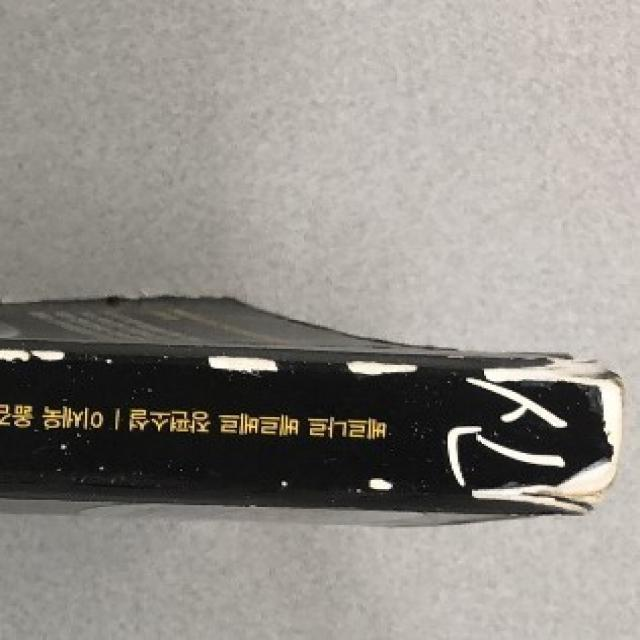Ripped: (457, 335, 626, 452), (460, 454, 628, 522)
Wornout: (177, 342, 284, 380), (346, 349, 426, 378), (0, 339, 69, 369), (364, 470, 403, 496)
